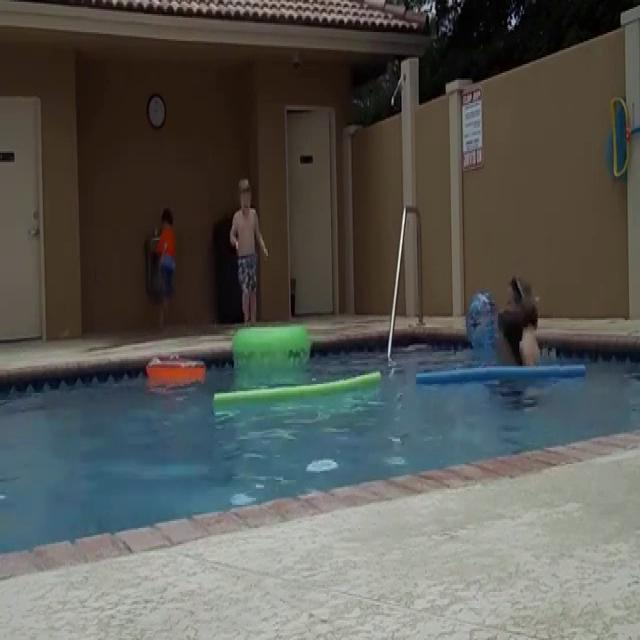adult: (500, 277, 540, 379), (486, 308, 525, 373)
child: (230, 178, 268, 328), (154, 207, 176, 331)
